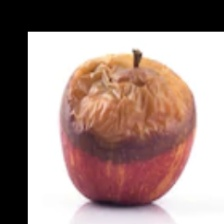apple: (35, 63, 210, 201)
